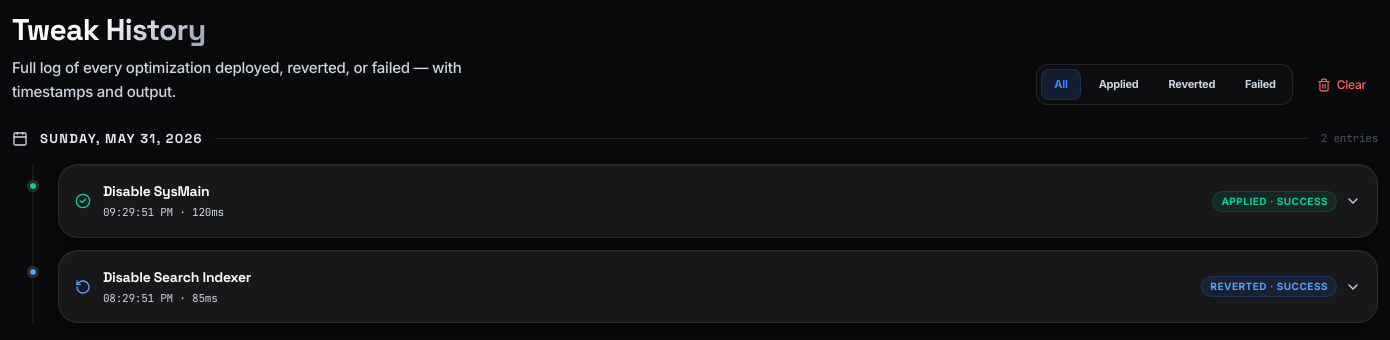
Scenario: HistoryPage › Reverted filter shows only REVERTED entries
Expected: the heading "Disable SysMain" is shown, 103,181 -> 224,202
Click the button "Reverted" at (1192, 85), box 1156,69 -> 1227,100
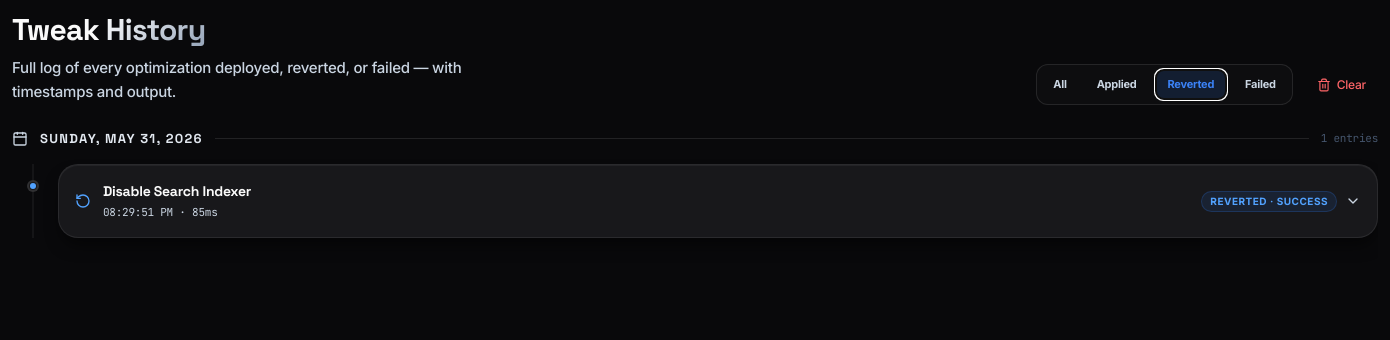
Expected: the heading "Disable Search Indexer" is shown, 103,181 -> 251,202
Now the heading "Disable SysMain" is gone
